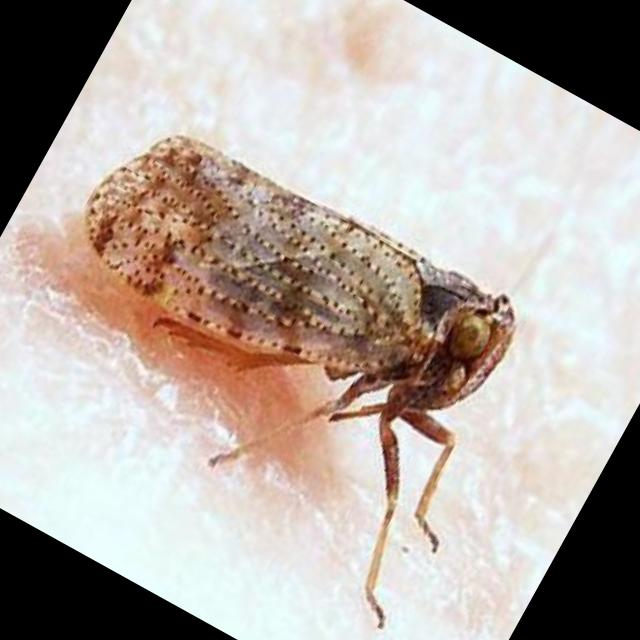brown-planthopper: (32, 80, 549, 518)
